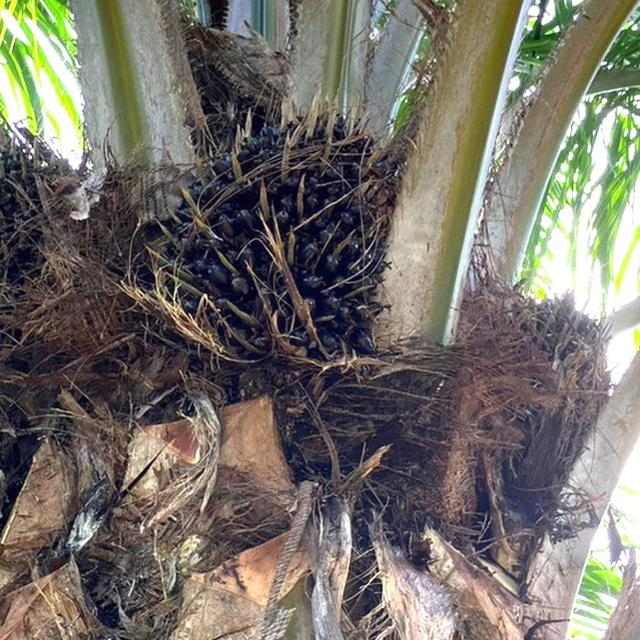unripe: (158, 114, 392, 390)
